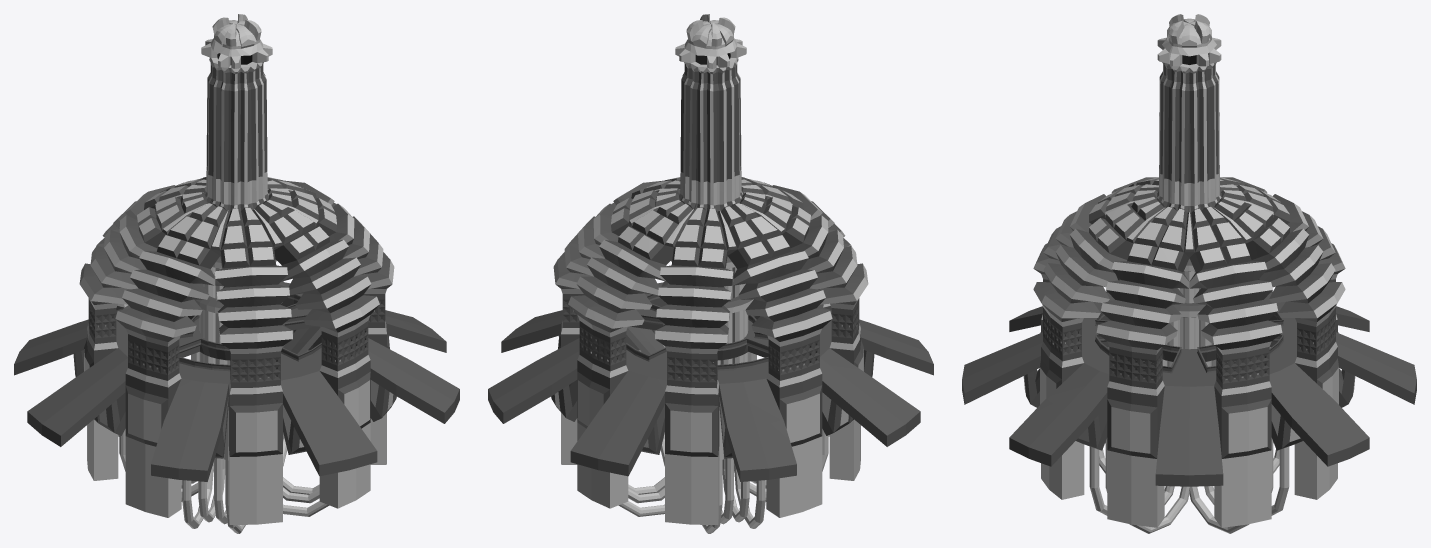
Rendered from GeothermalPowerStation_Pipe.dae.
3 renders of one model, left to right at view 1: azimuth 30°, elevation 25°; view 2: azimuth 150°, elevation 25°; view 3: azimuth 270°, elevation 25°, orthographic.
Visible parts, largest first — view 1: GeothermalPowerStation_Pipe; view 2: GeothermalPowerStation_Pipe; view 3: GeothermalPowerStation_Pipe.
Boxes of the visible parts, x1,y1,x2,y2 form: GeothermalPowerStation_Pipe: (14,14,459,533); GeothermalPowerStation_Pipe: (488,14,933,533); GeothermalPowerStation_Pipe: (962,14,1416,533).
Size of the model in its own units: 71.87 by 71.87 by 84.43.
Materials: 1 (1 with a texture image).
